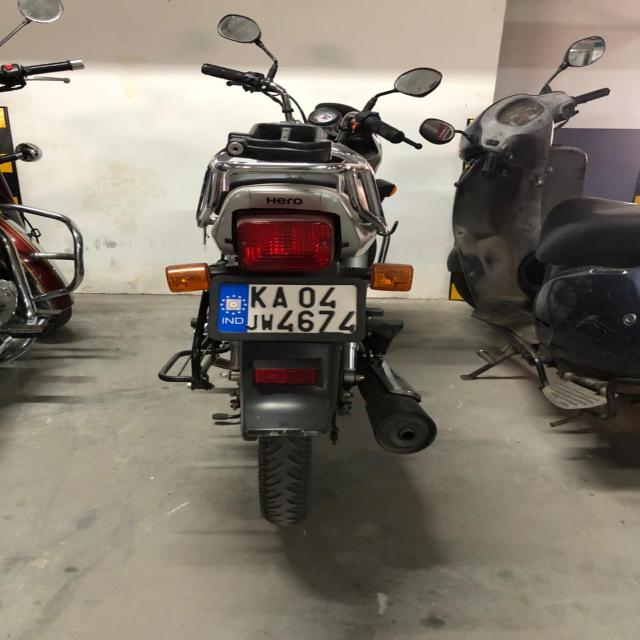license_plate: (209, 277, 368, 341)
